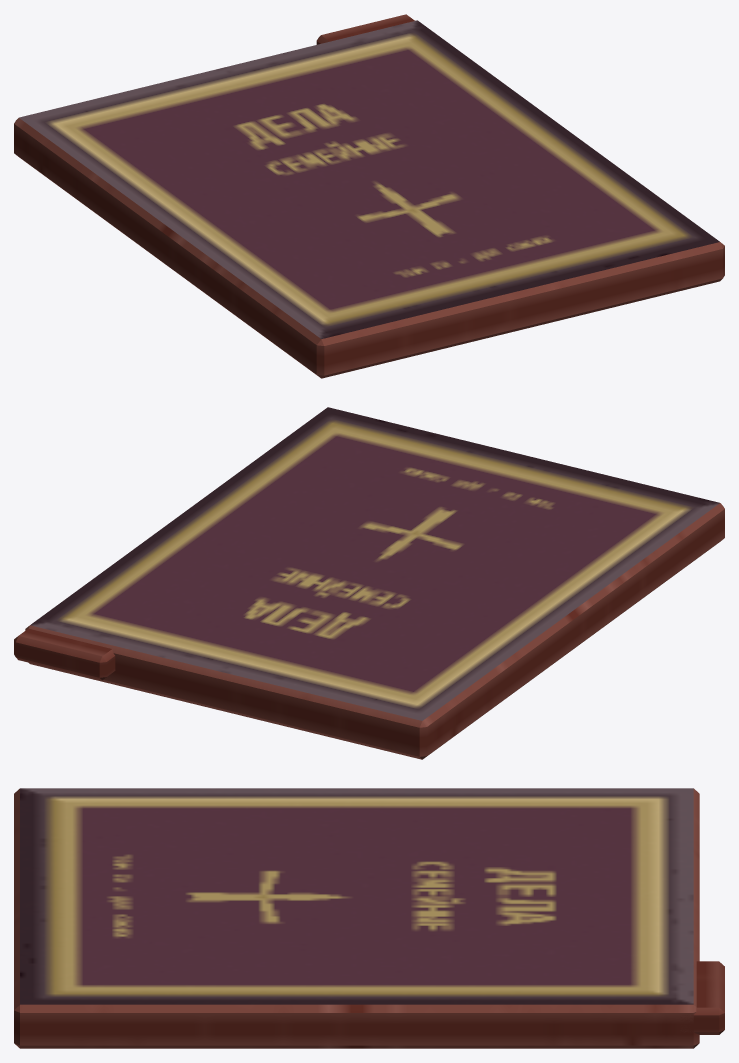
The model's file is MD_121_DocumentFolder.fbx.
3 views of the same model, one above another, from view 1: azimuth 30°, elevation 25°; view 2: azimuth 150°, elevation 25°; view 3: azimuth 270°, elevation 25° (orthographic). The views are drawn at different scales.
Visible parts, largest first — view 1: MD_121_DocumentFolder_document_folder, MD_121_DocumentFolder_folder_tab; view 2: MD_121_DocumentFolder_document_folder, MD_121_DocumentFolder_folder_tab; view 3: MD_121_DocumentFolder_document_folder, MD_121_DocumentFolder_folder_tab.
Boxes of the visible parts, box(x1,y1,x2,y2) form: MD_121_DocumentFolder_document_folder: box(14, 20, 724, 378); MD_121_DocumentFolder_folder_tab: box(316, 14, 414, 44); MD_121_DocumentFolder_document_folder: box(25, 407, 724, 759); MD_121_DocumentFolder_folder_tab: box(14, 628, 115, 680); MD_121_DocumentFolder_document_folder: box(14, 788, 699, 1048); MD_121_DocumentFolder_folder_tab: box(680, 961, 724, 1034).
Size of the model in its own units: 0.26 by 0.024 by 0.3525.
Materials: 2 (2 with a texture image).
